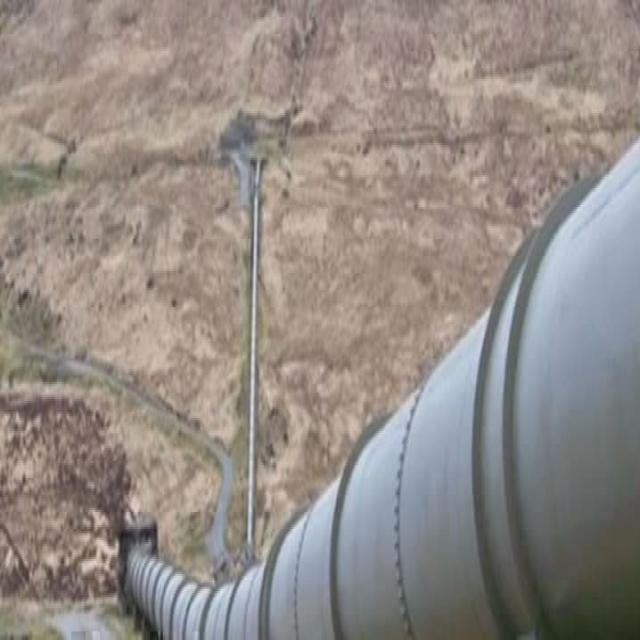gas: (120, 142, 640, 639)
